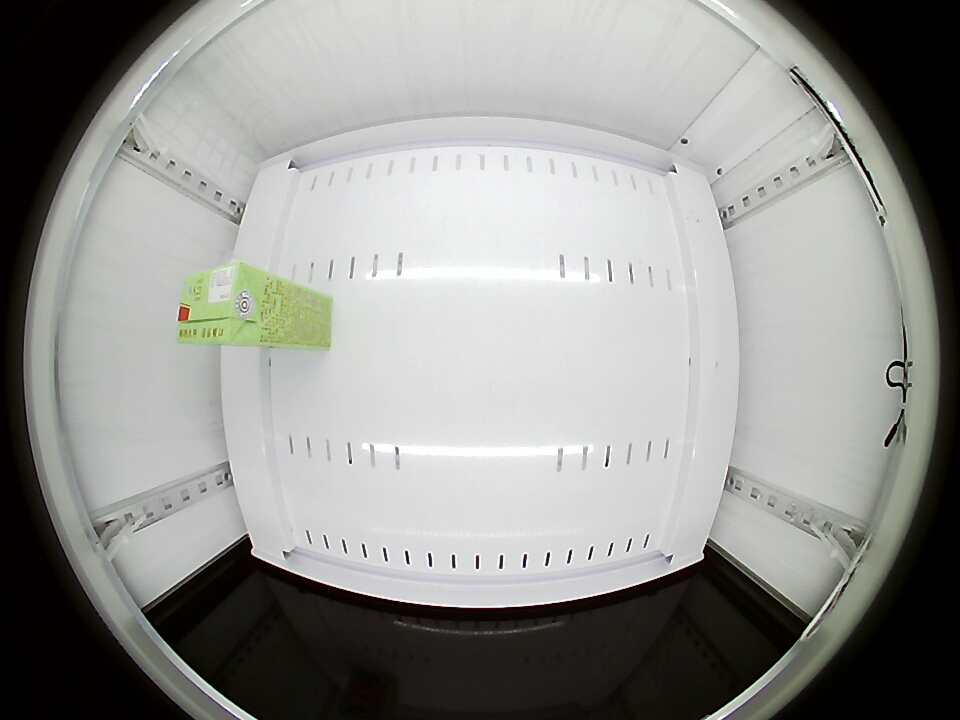wanglaoji: (177, 261, 270, 347)
